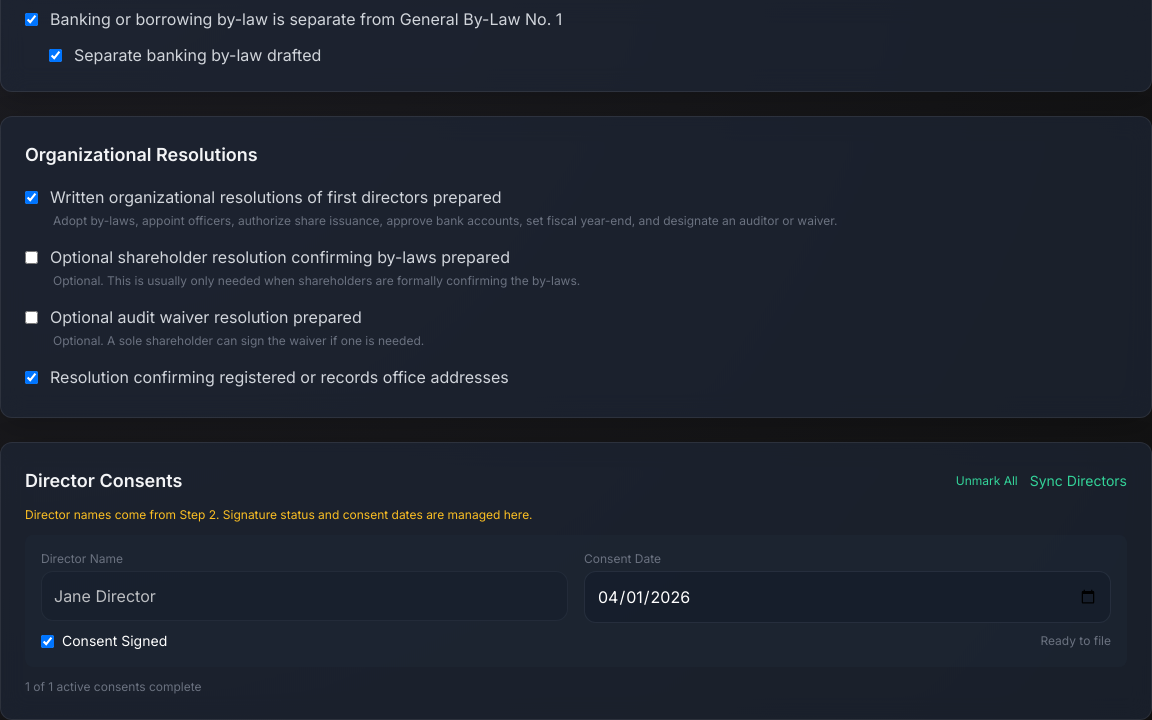
Test case: PostIncorpOrg.vue › clears and disables the consent date when a consent is unchecked
The width and height of the screenshot is (1152, 720).
(page scrolled)
Expected: the date field is enabled, x1=584 y1=571 x2=1111 y2=623
Click the checkbox labelled "Consent Signed". click: [48, 641]
box: x1=41 y1=634 x2=54 y2=648
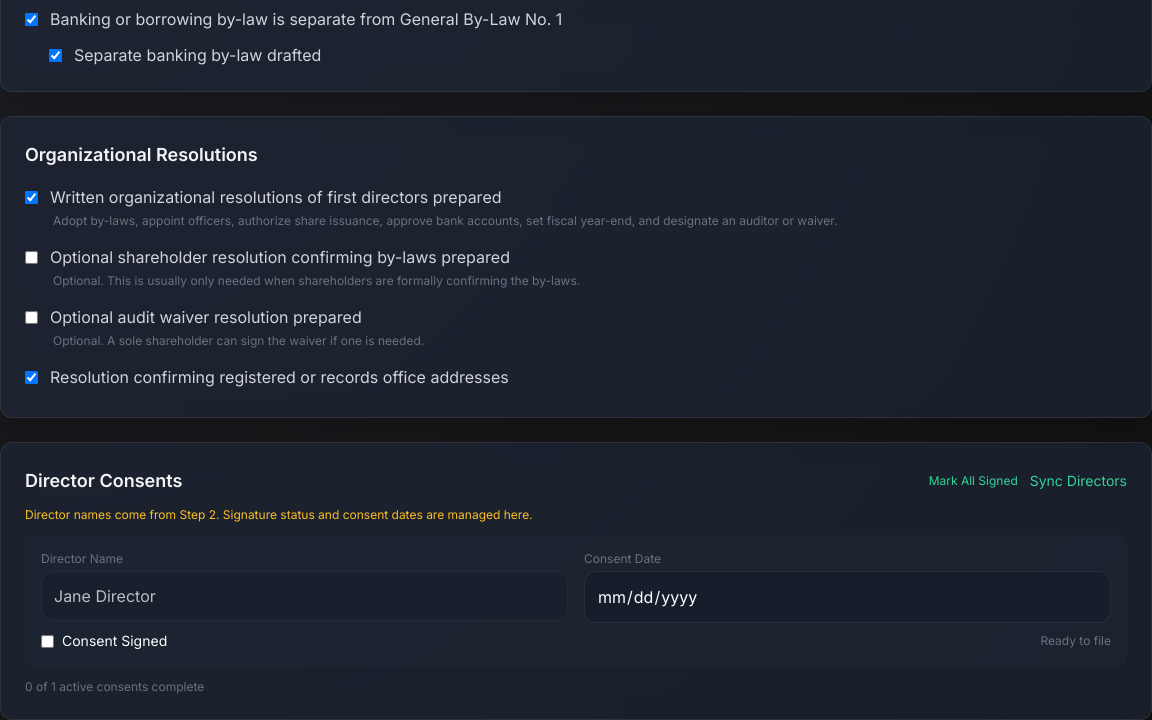
Now the date field is empty, box x1=584 y1=571 x2=1111 y2=623
Now the date field is disabled, box x1=584 y1=571 x2=1111 y2=623
